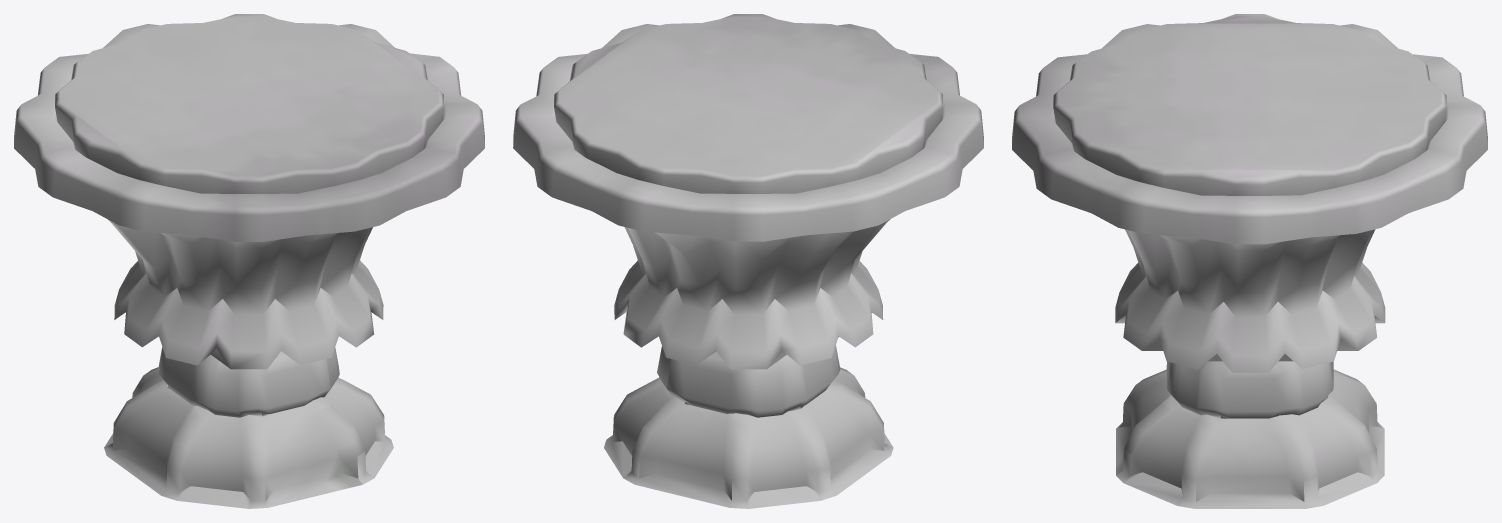
Rendered from MarblePedestalHand.fbx.
3 renders of one model, left to right at view 1: azimuth 30°, elevation 25°; view 2: azimuth 150°, elevation 25°; view 3: azimuth 270°, elevation 25°, orthographic.
Parts seen in each view (by area): view 1: FlowerPotHandHeld; view 2: FlowerPotHandHeld; view 3: FlowerPotHandHeld.
Boxes of the visible parts, x1,y1,x2,y2 form: FlowerPotHandHeld: (14,14,484,508); FlowerPotHandHeld: (513,14,983,508); FlowerPotHandHeld: (1012,14,1487,508).
Bounding box in the file's own units: 0.8758 × 0.7214 × 0.8756.
